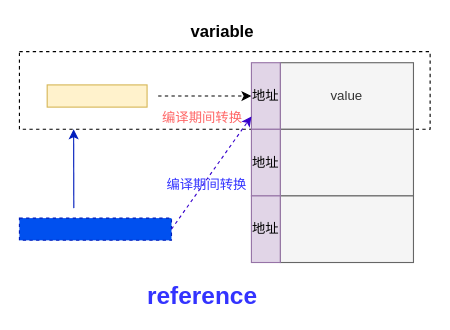
Some shapes in this 450 by 330 pixel diagram are drawn without their labels. The box of each missing label's shape, as (x1, y1, x2, y2) in pixels:
reference name: (18, 217, 171, 240)
variable name: (46, 84, 147, 107)
